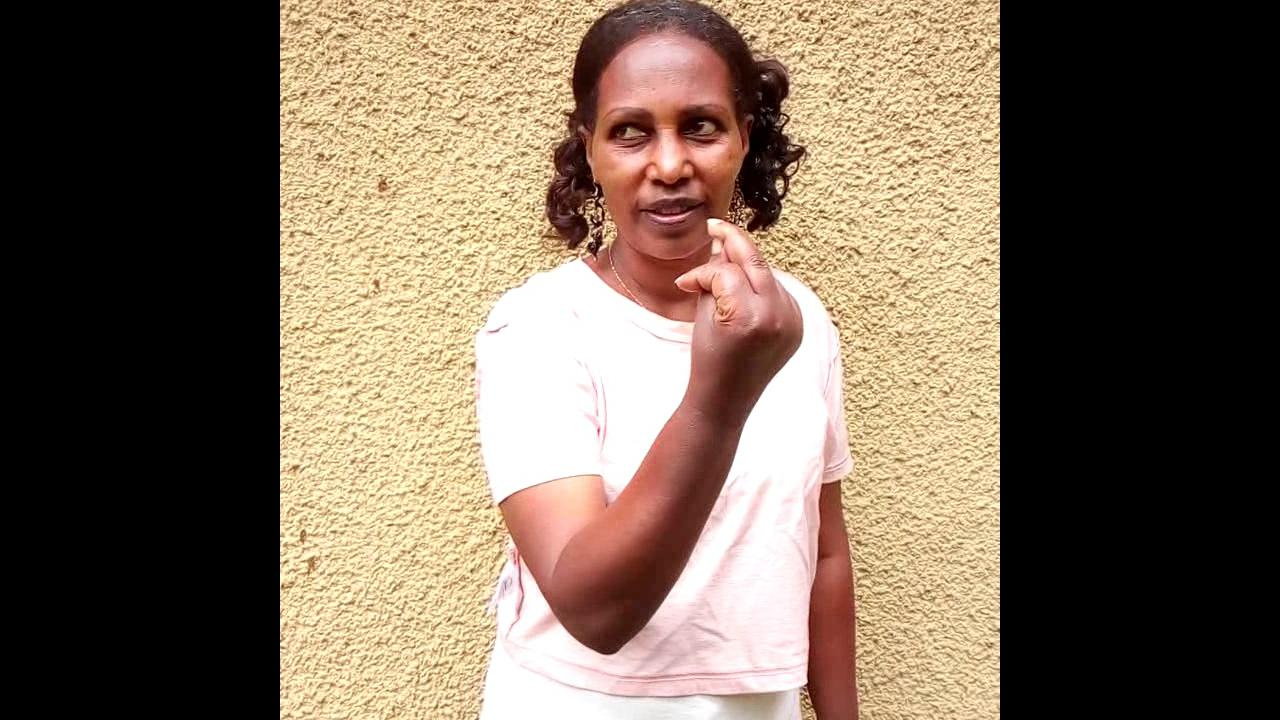CHE: (679, 218, 809, 473)
